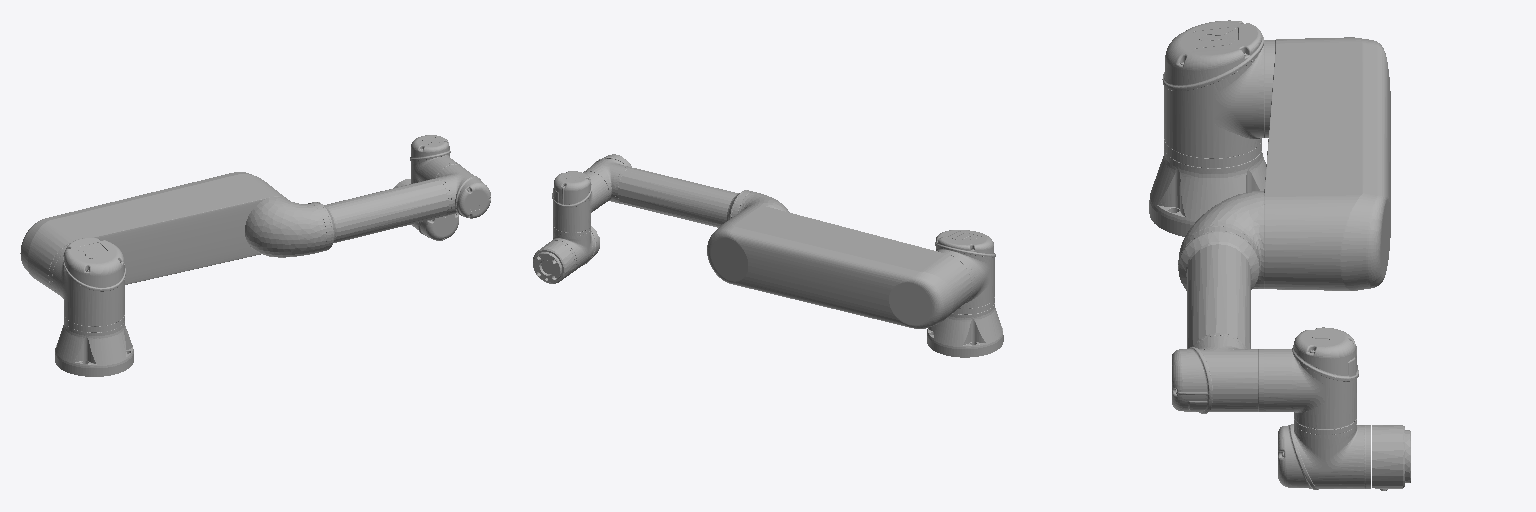
robot.urdf — ur5e_robot:
<?xml version="1.0" encoding="utf-8"?>
<!-- =================================================================================== -->
<!-- |    This document was autogenerated by xacro from ur5e.xacro                     | -->
<!-- |    EDITING THIS FILE BY HAND IS NOT RECOMMENDED                                 | -->
<!-- =================================================================================== -->
<robot name="ur5e_robot">
  <!--
    Base UR robot series xacro macro.

    NOTE: this is NOT a URDF. It cannot directly be loaded by consumers
    expecting a flattened '.urdf' file. See the top-level '.xacro' for that
    (but note: that .xacro must still be processed by the xacro command).

    For use in '.launch' files: use one of the 'load_urX.launch' convenience
    launch files.

    This file models the base kinematic chain of a UR robot, which then gets
    parameterised by various configuration files to convert it into a UR3(e),
    UR5(e), UR10(e) or UR16e.

    NOTE: the default kinematic parameters (ie: link lengths, frame locations,
    offets, etc) do not correspond to any particular robot. They are defaults
    only. There WILL be non-zero offsets between the Forward Kinematics results
    in TF (ie: robot_state_publisher) and the values reported by the Teach
    Pendant.

    For accurate (and robot-specific) transforms, the 'kinematics_parameters_file'
    parameter MUST point to a .yaml file containing the appropriate values for
    the targetted robot.

    If using the UniversalRobots/Universal_Robots_ROS_Driver, follow the steps
    described in the readme of that repository to extract the kinematic
    calibration from the controller and generate the required .yaml file.

    Main author of the migration to yaml configs: [author].

    Contributors to previous versions (in no particular order):

     - [author]
     - [author]
     - [author]
     - [author]
     - [author]
     - [author]
     - [author]
     - [author]
     - [author]
     - [author]
     - [author]
     - [author]
     - [author]
     - [author]
     - [author]
     - [author]
     - [author]
  -->
  <!--
    NOTE: the macro defined in this file is NOT part of the public API of this
          package. Users CANNOT rely on this file being available, or stored in
          this location. Nor can they rely on the existence of the macro.
  -->
  <link name="base_link"/>
  <link name="base_link_inertia">
    <visual>
      <origin rpy="0 0 3.14159265359" xyz="0 0 0"/>
      <geometry>
        <mesh filename="./meshes/ur5e/visual/base.obj"/>
      </geometry>
      <material name="LightGrey">
        <color rgba="0.7 0.7 0.7 1.0"/>
      </material>
    </visual>
    <collision>
      <origin rpy="0 0 3.14159265359" xyz="0 0 0"/>
      <geometry>
        <mesh filename="./meshes/ur5e/collision/base.obj"/>
      </geometry>
    </collision>
    <inertial>
      <mass value="4.0"/>
      <origin rpy="0 0 0" xyz="0 0 0"/>
      <inertia ixx="0.00443333156" ixy="0.0" ixz="0.0" iyy="0.00443333156" iyz="0.0" izz="0.0072"/>
    </inertial>
  </link>
  <link name="shoulder_link">
    <visual>
      <origin rpy="0 0 3.14159265359" xyz="0 0 0"/>
      <geometry>
        <mesh filename="./meshes/ur5e/visual/shoulder.obj"/>
      </geometry>
      <material name="LightGrey">
        <color rgba="0.7 0.7 0.7 1.0"/>
      </material>
    </visual>
    <collision>
      <origin rpy="0 0 3.14159265359" xyz="0 0 0"/>
      <geometry>
        <mesh filename="./meshes/ur5e/collision/shoulder.obj"/>
      </geometry>
    </collision>
    <inertial>
      <mass value="3.7"/>
      <origin rpy="0 0 0" xyz="0 0 0"/>
      <inertia ixx="0.010267495893" ixy="0.0" ixz="0.0" iyy="0.010267495893" iyz="0.0" izz="0.00666"/>
    </inertial>
  </link>
  <link name="upper_arm_link">
    <visual>
      <origin rpy="1.57079632679 0 -1.57079632679" xyz="0 0 0.138"/>
      <geometry>
        <mesh filename="./meshes/ur5e/visual/upperarm.obj"/>
      </geometry>
      <material name="LightGrey">
        <color rgba="0.7 0.7 0.7 1.0"/>
      </material>
    </visual>
    <collision>
      <origin rpy="1.57079632679 0 -1.57079632679" xyz="0 0 0.138"/>
      <geometry>
        <mesh filename="./meshes/ur5e/collision/upperarm.obj"/>
      </geometry>
    </collision>
    <inertial>
      <mass value="8.393"/>
      <origin rpy="0 1.57079632679 0" xyz="-0.2125 0.0 0.138"/>
      <inertia ixx="0.133885781862" ixy="0.0" ixz="0.0" iyy="0.133885781862" iyz="0.0" izz="0.0151074"/>
    </inertial>
  </link>
  <link name="forearm_link">
    <visual>
      <origin rpy="1.57079632679 0 -1.57079632679" xyz="0 0 0.007"/>
      <geometry>
        <mesh filename="./meshes/ur5e/visual/forearm.obj"/>
      </geometry>
      <material name="LightGrey">
        <color rgba="0.7 0.7 0.7 1.0"/>
      </material>
    </visual>
    <collision>
      <origin rpy="1.57079632679 0 -1.57079632679" xyz="0 0 0.007"/>
      <geometry>
        <mesh filename="./meshes/ur5e/collision/forearm.obj"/>
      </geometry>
    </collision>
    <inertial>
      <mass value="2.275"/>
      <origin rpy="0 1.57079632679 0" xyz="-0.1961 0.0 0.007"/>
      <inertia ixx="0.0312093550996" ixy="0.0" ixz="0.0" iyy="0.0312093550996" iyz="0.0" izz="0.004095"/>
    </inertial>
  </link>
  <link name="wrist_1_link">
    <visual>
      <!-- TODO: Move this to a parameter -->
      <origin rpy="1.57079632679 0 0" xyz="0 0 -0.127"/>
      <geometry>
        <mesh filename="./meshes/ur5e/visual/wrist1.obj"/>
      </geometry>
      <material name="LightGrey">
        <color rgba="0.7 0.7 0.7 1.0"/>
      </material>
    </visual>
    <collision>
      <origin rpy="1.57079632679 0 0" xyz="0 0 -0.127"/>
      <geometry>
        <mesh filename="./meshes/ur5e/collision/wrist1.obj"/>
      </geometry>
    </collision>
    <inertial>
      <mass value="1.219"/>
      <origin rpy="0 0 0" xyz="0 0 0"/>
      <inertia ixx="0.00255989897604" ixy="0.0" ixz="0.0" iyy="0.00255989897604" iyz="0.0" izz="0.0021942"/>
    </inertial>
  </link>
  <link name="wrist_2_link">
    <visual>
      <origin rpy="0 0 0" xyz="0 0 -0.0997"/>
      <geometry>
        <mesh filename="./meshes/ur5e/visual/wrist2.obj"/>
      </geometry>
      <material name="LightGrey">
        <color rgba="0.7 0.7 0.7 1.0"/>
      </material>
    </visual>
    <collision>
      <origin rpy="0 0 0" xyz="0 0 -0.0997"/>
      <geometry>
        <mesh filename="./meshes/ur5e/collision/wrist2.obj"/>
      </geometry>
    </collision>
    <inertial>
      <mass value="1.219"/>
      <origin rpy="0 0 0" xyz="0 0 0"/>
      <inertia ixx="0.00255989897604" ixy="0.0" ixz="0.0" iyy="0.00255989897604" iyz="0.0" izz="0.0021942"/>
    </inertial>
  </link>
  <link name="wrist_3_link">
    <visual>
      <origin rpy="1.57079632679 0 0" xyz="0 0 -0.0989"/>
      <geometry>
        <mesh filename="./meshes/ur5e/visual/wrist3.obj"/>
      </geometry>
      <material name="LightGrey">
        <color rgba="0.7 0.7 0.7 1.0"/>
      </material>
    </visual>
    <collision>
      <origin rpy="1.57079632679 0 0" xyz="0 0 -0.0989"/>
      <geometry>
        <mesh filename="./meshes/ur5e/collision/wrist3.obj"/>
      </geometry>
    </collision>
    <inertial>
      <mass value="0.1879"/>
      <origin rpy="0 0 0" xyz="0.0 0.0 -0.0229"/>
      <inertia ixx="9.89041005217e-05" ixy="0.0" ixz="0.0" iyy="9.89041005217e-05" iyz="0.0" izz="0.0001321171875"/>
    </inertial>
  </link>
  <!-- joints: main serial chain -->
  <joint name="base_link-base_link_inertia" type="fixed">
    <parent link="base_link"/>
    <child link="base_link_inertia"/>
    <!-- 'base_link' is REP-103 aligned (so X+ forward), while the internal
           frames of the robot/controller have X+ pointing backwards.
           Use the joint between 'base_link' and 'base_link_inertia' (a dummy
           link/frame) to introduce the necessary rotation over Z (of pi rad).
      -->
    <origin rpy="0 0 3.14159265359" xyz="0 0 0"/>
  </joint>
  <joint name="shoulder_pan_joint" type="revolute">
    <parent link="base_link_inertia"/>
    <child link="shoulder_link"/>
    <origin rpy="0 0 0" xyz="0 0 0.1625"/>
    <axis xyz="0 0 1"/>
    <limit effort="150.0" lower="-6.28318530718" upper="6.28318530718" velocity="3.14159265359"/>
    <dynamics damping="0.5" friction="0"/>
  </joint>
  <joint name="shoulder_lift_joint" type="revolute">
    <parent link="shoulder_link"/>
    <child link="upper_arm_link"/>
    <origin rpy="1.570796327 0 0" xyz="0 0 0"/>
    <axis xyz="0 0 1"/>
    <limit effort="150.0" lower="-6.28318530718" upper="6.28318530718" velocity="3.14159265359"/>
    <dynamics damping="0.5" friction="0"/>
  </joint>
  <joint name="elbow_joint" type="revolute">
    <parent link="upper_arm_link"/>
    <child link="forearm_link"/>
    <origin rpy="0 0 0" xyz="-0.425 0 0"/>
    <axis xyz="0 0 1"/>
    <limit effort="150.0" lower="-3.14159265359" upper="3.14159265359" velocity="3.14159265359"/>
    <dynamics damping="0.5" friction="0"/>
  </joint>
  <joint name="wrist_1_joint" type="revolute">
    <parent link="forearm_link"/>
    <child link="wrist_1_link"/>
    <origin rpy="0 0 0" xyz="-0.3922 0 0.1333"/>
    <axis xyz="0 0 1"/>
    <limit effort="28.0" lower="-6.28318530718" upper="6.28318530718" velocity="3.14159265359"/>
    <dynamics damping="0.5" friction="0"/>
  </joint>
  <joint name="wrist_2_joint" type="revolute">
    <parent link="wrist_1_link"/>
    <child link="wrist_2_link"/>
    <origin rpy="1.570796327 0 0" xyz="0 -0.0997 -2.0448811823e-11"/>
    <axis xyz="0 0 1"/>
    <limit effort="28.0" lower="-6.28318530718" upper="6.28318530718" velocity="3.14159265359"/>
    <dynamics damping="0.5" friction="0"/>
  </joint>
  <joint name="wrist_3_joint" type="revolute">
    <parent link="wrist_2_link"/>
    <child link="wrist_3_link"/>
    <origin rpy="1.57079632659 3.14159265359 3.14159265359" xyz="0 0.0996 -2.04283014801e-11"/>
    <axis xyz="0 0 1"/>
    <limit effort="28.0" lower="-6.28318530718" upper="6.28318530718" velocity="3.14159265359"/>
    <dynamics damping="0.5" friction="0"/>
  </joint>
  <!-- ROS-Industrial 'base' frame: base_link to UR 'Base' Coordinates transform -->
  <link name="base"/>
  <joint name="base_link-base_fixed_joint" type="fixed">
    <!-- Note the rotation over Z of pi radians: as base_link is REP-103
           aligned (ie: has X+ forward, Y+ left and Z+ up), this is needed
           to correctly align 'base' with the 'Base' coordinate system of
           the UR controller.
      -->
    <origin rpy="0 0 3.14159265359" xyz="0 0 0"/>
    <parent link="base_link"/>
    <child link="base"/>
  </joint>
  <!-- ROS-Industrial 'flange' frame: attachment point for EEF models -->
  <link name="flange"/>
  <joint name="wrist_3-flange" type="fixed">
    <parent link="wrist_3_link"/>
    <child link="flange"/>
    <origin rpy="0 -1.57079632679 -1.57079632679" xyz="0 0 0"/>
  </joint>
  <!-- ROS-Industrial 'tool0' frame: all-zeros tool frame -->
  <link name="tool0"/>
  <joint name="flange-tool0" type="fixed">
    <!-- default toolframe: X+ left, Y+ up, Z+ front -->
    <origin rpy="1.57079632679 0 1.57079632679" xyz="0 0 0"/>
    <parent link="flange"/>
    <child link="tool0"/>
  </joint>
</robot>

--- Facts derived from the render (not from the file) ---
3 views of the same robot in one strip: view 1: azimuth 30°, elevation 25°; view 2: azimuth 150°, elevation 25°; view 3: azimuth 270°, elevation 25° (orthographic).
Model ur5e_robot with 11 links and 10 joints (6 revolute, 4 fixed), rooted at base_link, posed every joint at zero.
Visible links, largest first — view 1: upper_arm_link, forearm_link, shoulder_link, base_link_inertia, wrist_1_link, wrist_2_link; view 2: upper_arm_link, forearm_link, base_link_inertia, wrist_1_link, shoulder_link, wrist_3_link, wrist_2_link; view 3: upper_arm_link, forearm_link, shoulder_link, wrist_1_link, base_link_inertia, wrist_2_link, wrist_3_link.
Boxes of the visible links, bbox=[...] form: upper_arm_link: bbox=[20, 172, 286, 292]; forearm_link: bbox=[245, 163, 490, 257]; shoulder_link: bbox=[49, 238, 125, 325]; base_link_inertia: bbox=[55, 315, 133, 376]; wrist_1_link: bbox=[410, 135, 460, 183]; wrist_2_link: bbox=[411, 213, 458, 240]; upper_arm_link: bbox=[707, 205, 971, 328]; forearm_link: bbox=[583, 154, 789, 227]; base_link_inertia: bbox=[927, 297, 1003, 357]; wrist_1_link: bbox=[552, 171, 606, 235]; shoulder_link: bbox=[935, 230, 995, 308]; wrist_3_link: bbox=[533, 242, 574, 283]; wrist_2_link: bbox=[549, 226, 599, 272]; upper_arm_link: bbox=[1264, 37, 1390, 290]; forearm_link: bbox=[1172, 191, 1263, 413]; shoulder_link: bbox=[1162, 20, 1275, 157]; wrist_1_link: bbox=[1264, 327, 1358, 434]; base_link_inertia: bbox=[1149, 139, 1265, 236]; wrist_2_link: bbox=[1278, 424, 1370, 489]; wrist_3_link: bbox=[1372, 425, 1410, 490].
Bounding box of the posed robot: 0.932 × 0.3085 × 0.234 m (x, y, z).
Meshes: 7 distinct files referenced, 7 mesh visuals loaded (7 OBJ).